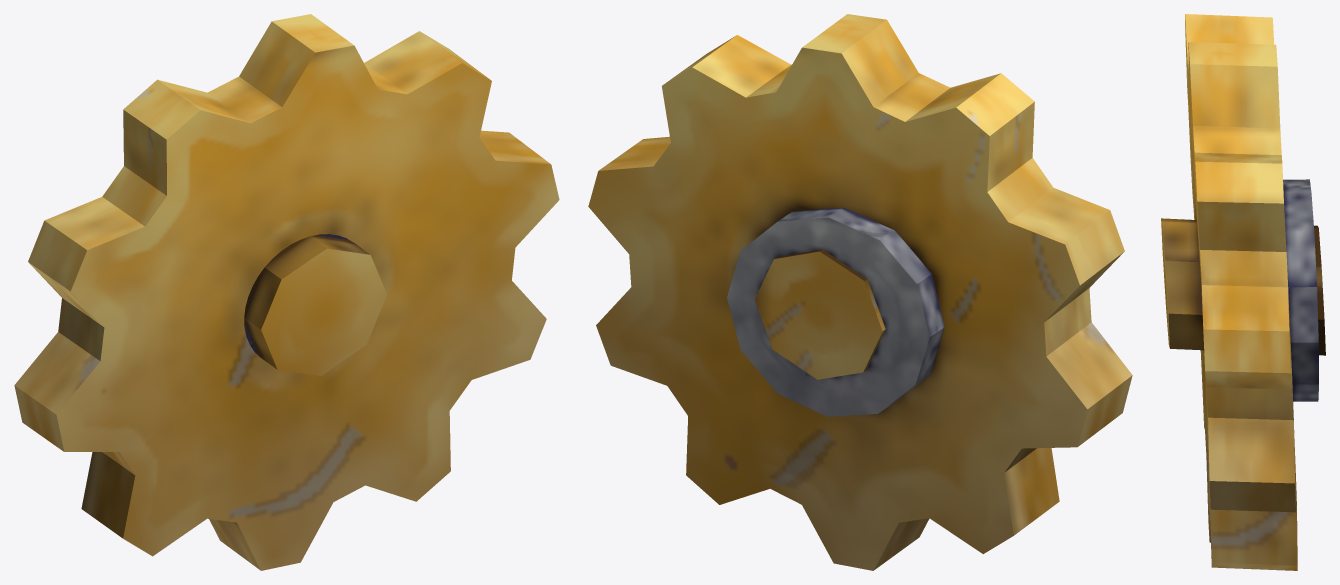
File: GoldenCog.glb
The picture shows the model from 3 angles, left to right: view 1: azimuth 30°, elevation 25°; view 2: azimuth 150°, elevation 25°; view 3: azimuth 270°, elevation 25°; orthographic projection. The views are drawn at different scales.
Visible parts, largest first — view 1: Cog; view 2: Cog, Hub; view 3: Cog, Hub.
Part boxes in pixels (<box>): Cog: <box>14,14,559,570</box>; Cog: <box>588,14,1132,570</box>; Hub: <box>727,207,944,416</box>; Cog: <box>1161,14,1325,570</box>; Hub: <box>1283,179,1318,401</box>.
Size of the model in its own units: 1.03 by 1 by 0.2964.
Materials: 2 (2 with a texture image).
